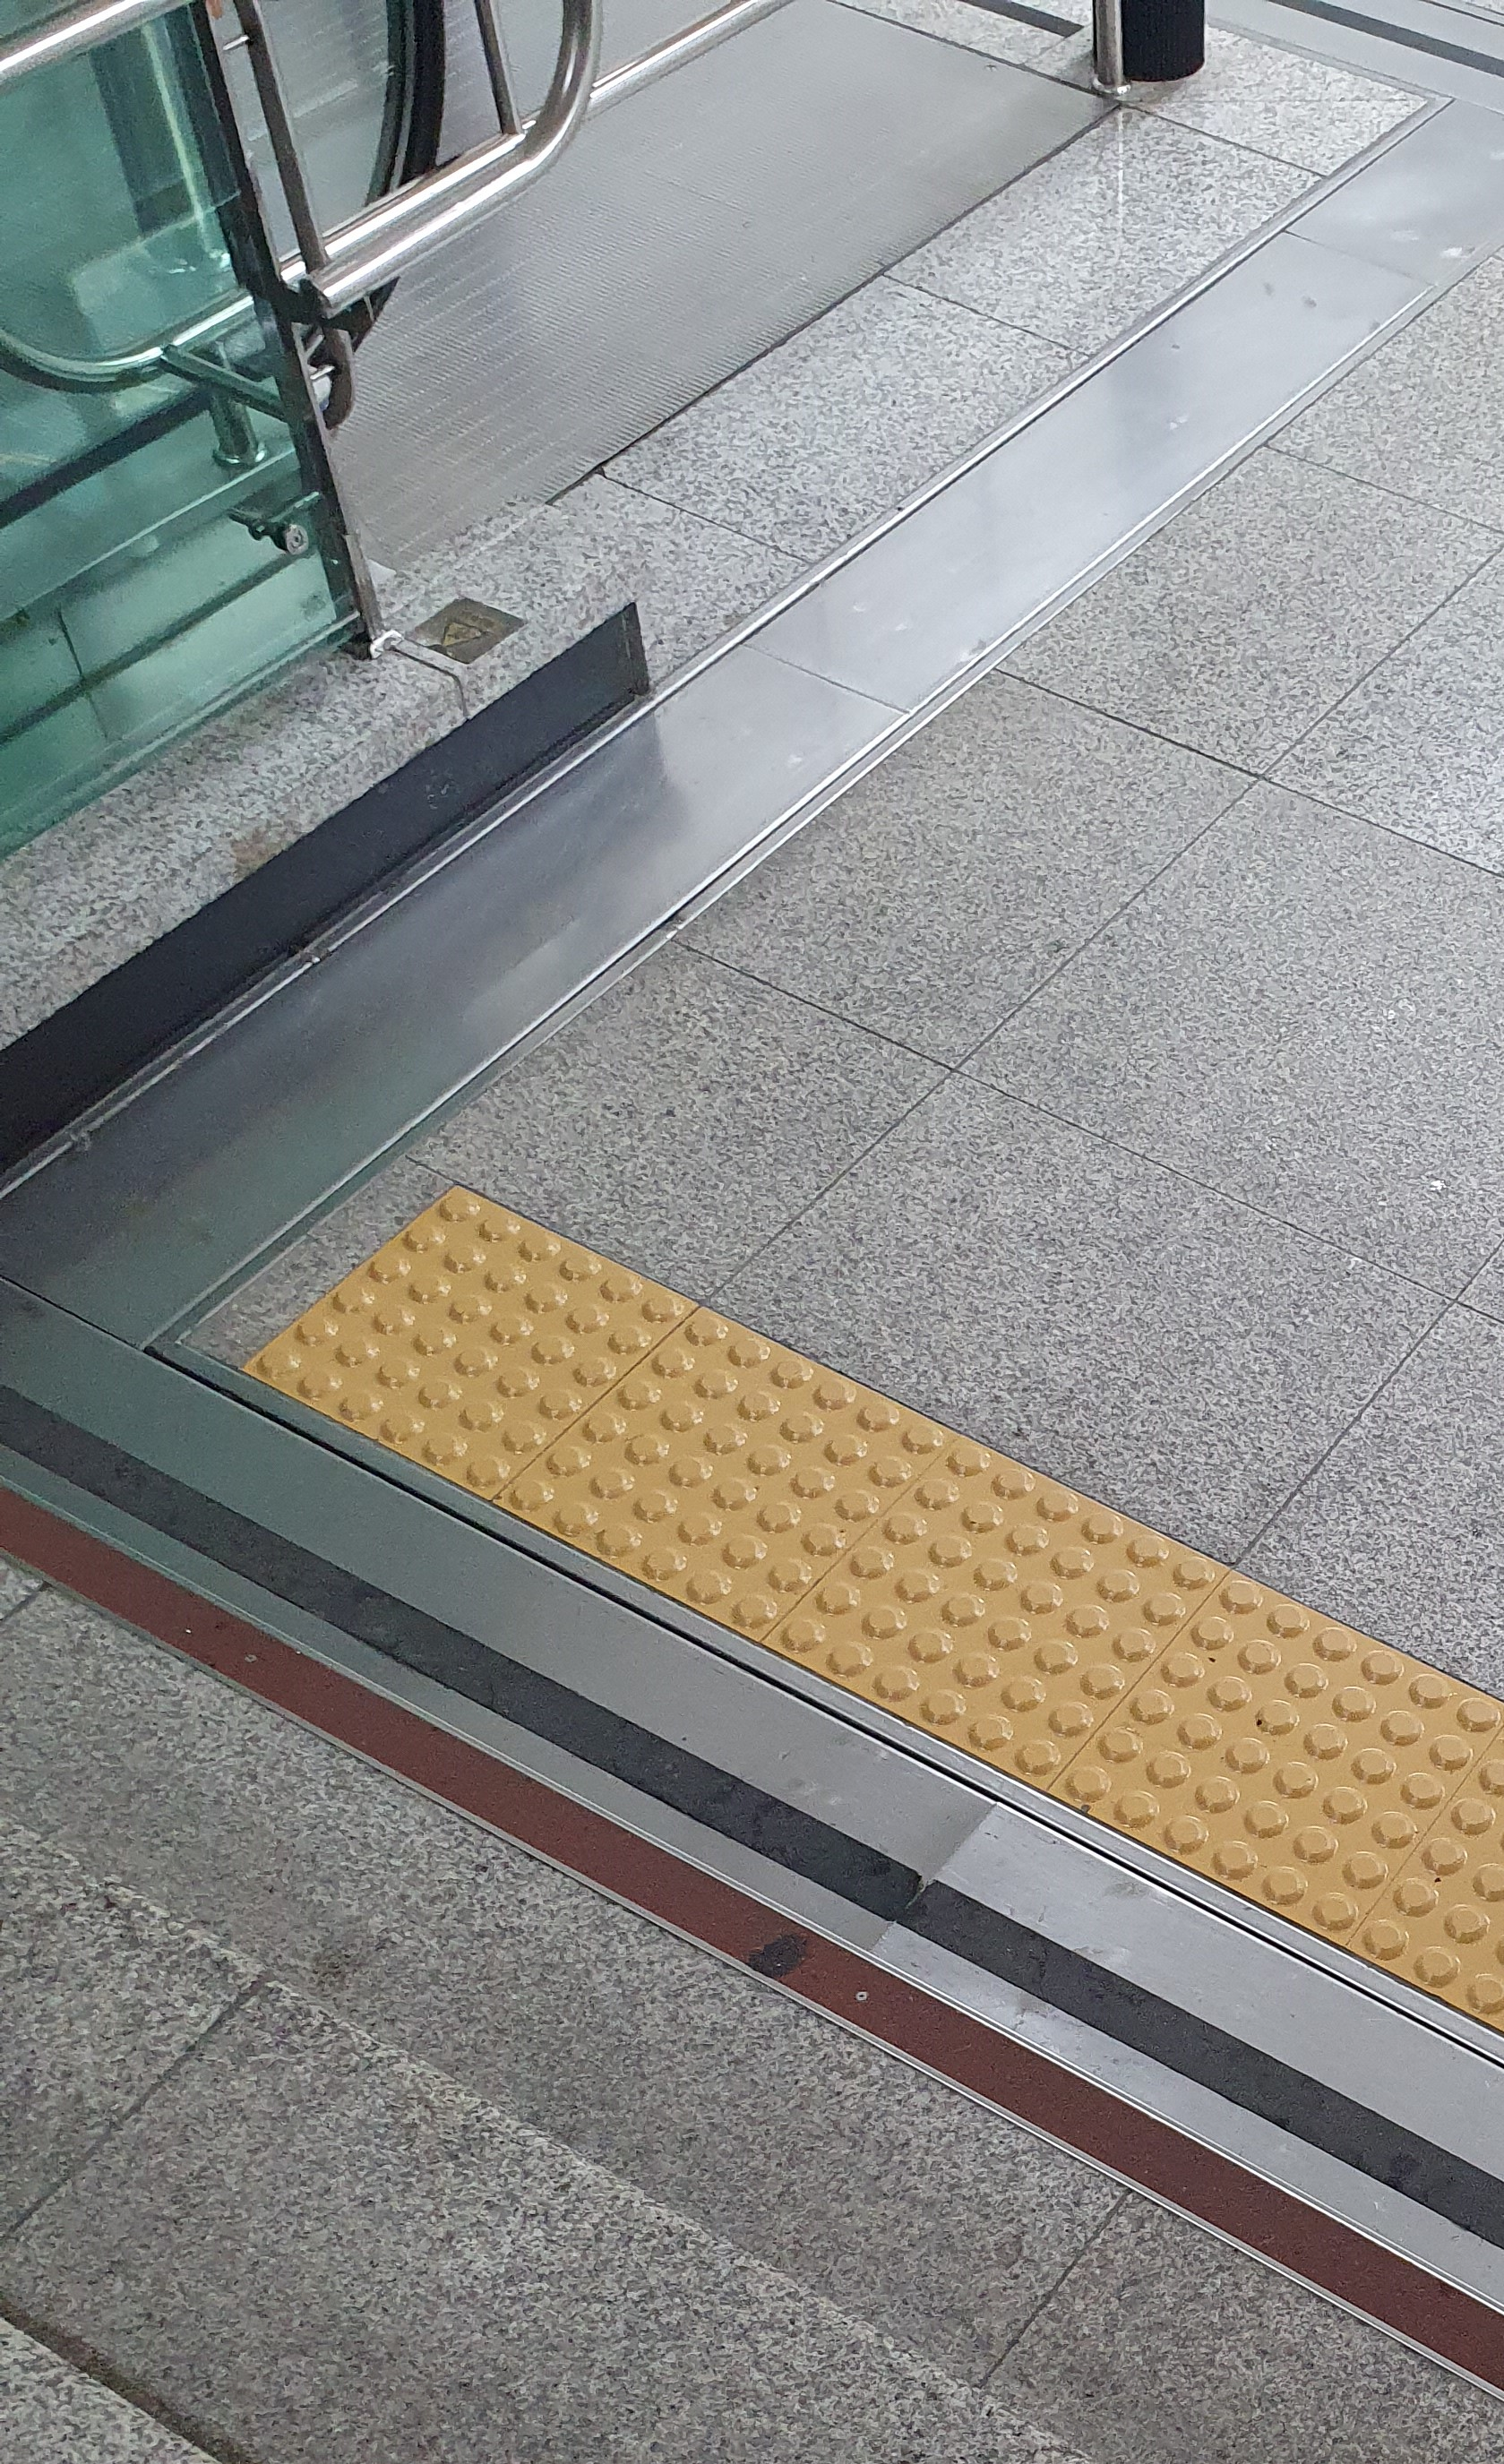warningBlock: (1157, 1588, 1427, 1920), (854, 1470, 1171, 1741), (368, 1209, 639, 1489), (592, 1350, 891, 1593), (1356, 1635, 1504, 2022)
